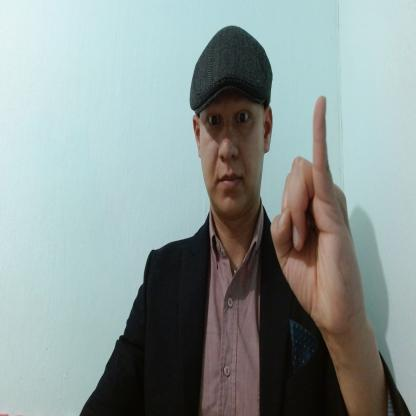I: (271, 92, 362, 339)
